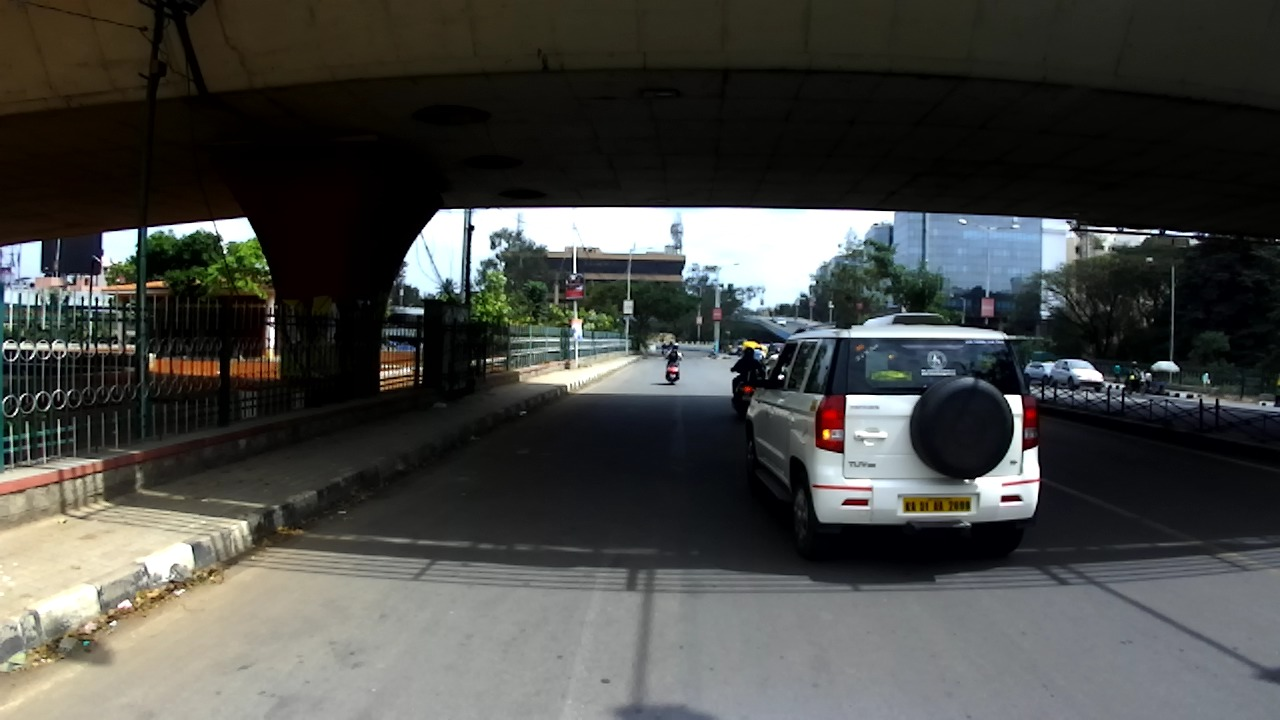car: (745, 312, 1041, 560), (1049, 358, 1104, 393), (1021, 361, 1057, 387), (766, 343, 786, 360)
motorcycle: (729, 362, 765, 418), (666, 353, 681, 384)
person: (1128, 360, 1142, 393), (1114, 363, 1123, 384), (1144, 370, 1152, 392)
rider: (730, 346, 763, 410), (666, 341, 684, 379), (766, 347, 783, 381), (756, 348, 768, 361), (753, 348, 762, 361)
truck: (861, 312, 950, 335)
vehicle fallback: (719, 329, 751, 352), (743, 342, 762, 356), (662, 341, 675, 357)
